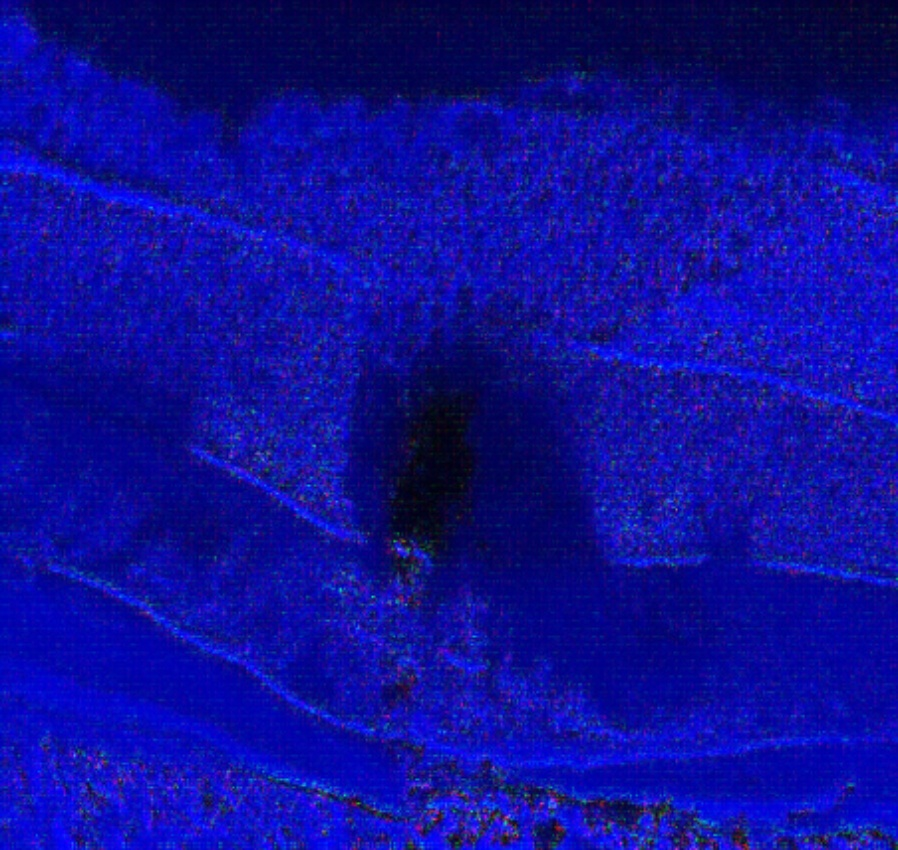rip_current: (303, 168, 652, 632)
